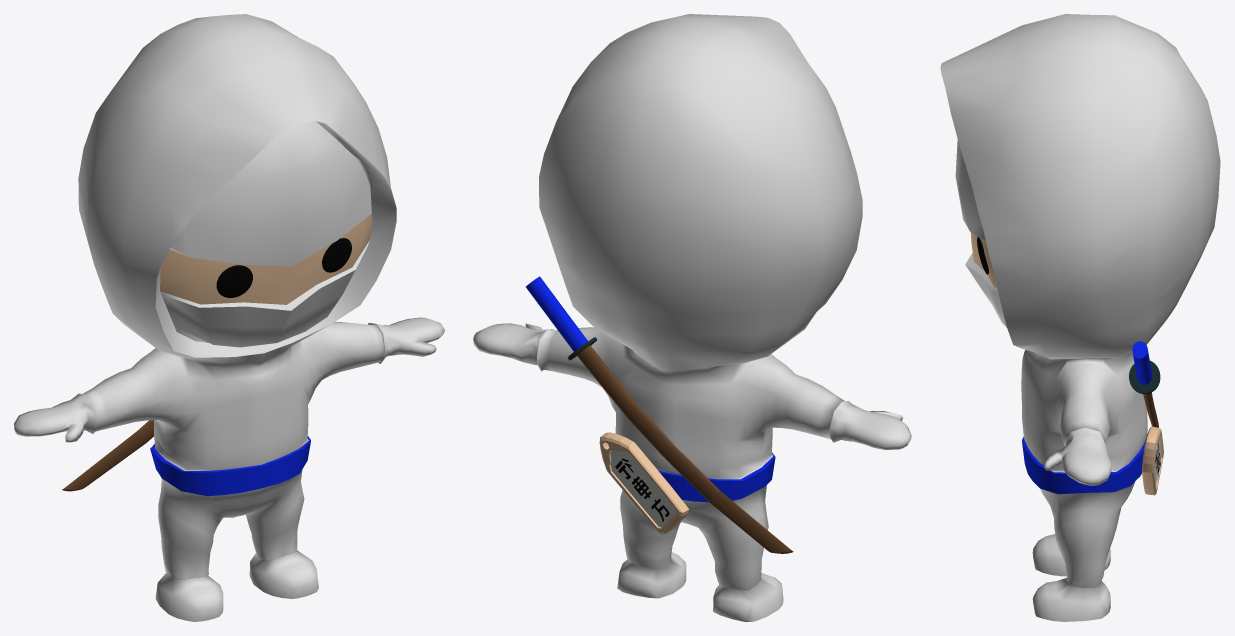
File: ninjawhite.gltf
The picture shows the model from 3 angles, left to right: view 1: azimuth 30°, elevation 25°; view 2: azimuth 150°, elevation 25°; view 3: azimuth 270°, elevation 25°; orthographic projection.
Visible parts, largest first — view 1: Cube.007, Cylinder.002; view 2: Cube.007, Cylinder.002, Cube.006; view 3: Cube.007, Cylinder.002, Cube.006.
Part boxes in pixels (x1,y1,x2,y2): Cube.007: [14, 14, 444, 621]; Cylinder.002: [62, 420, 153, 491]; Cube.007: [473, 14, 911, 621]; Cylinder.002: [526, 276, 793, 553]; Cube.006: [599, 432, 689, 534]; Cube.007: [940, 14, 1220, 621]; Cylinder.002: [1129, 341, 1160, 427]; Cube.006: [1142, 426, 1163, 495].
Size of the model in its own units: 4.65 by 5.88 by 2.65.
